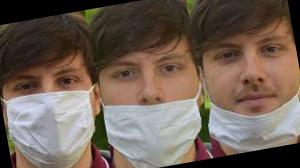mask_weared_incorrect: (99, 45, 210, 168), (205, 28, 300, 152)
with_mask: (5, 58, 102, 167)
